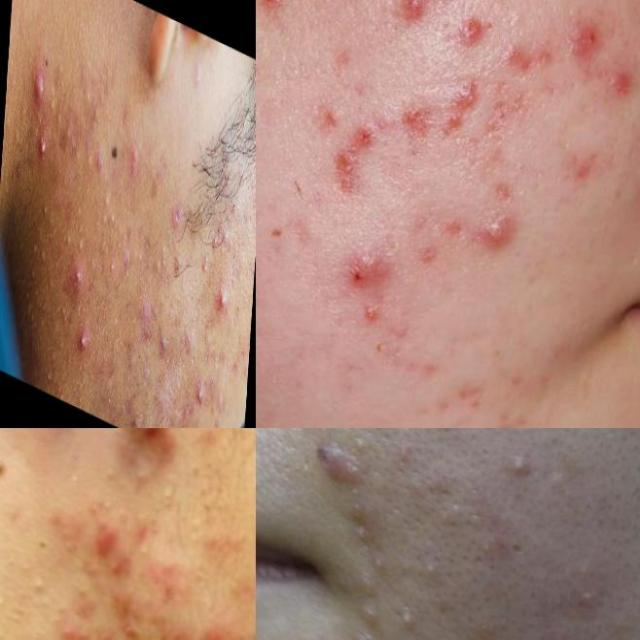8: (330, 243, 395, 308), (555, 3, 611, 78), (593, 50, 640, 119), (390, 0, 434, 44), (84, 512, 124, 558), (132, 428, 175, 450), (91, 147, 106, 190), (54, 625, 85, 640)
9: (551, 579, 606, 635), (458, 210, 510, 260), (491, 438, 536, 493), (347, 546, 398, 589), (412, 550, 451, 601), (391, 599, 432, 640), (32, 117, 53, 177), (75, 314, 92, 368), (27, 66, 47, 110), (213, 280, 231, 324), (153, 327, 168, 363), (72, 259, 85, 297), (191, 384, 203, 422)
blackheads: (328, 115, 382, 215), (319, 436, 373, 495), (382, 108, 437, 161), (484, 90, 521, 156), (442, 83, 472, 155), (331, 619, 391, 640)
dark spot: (44, 47, 50, 75)
